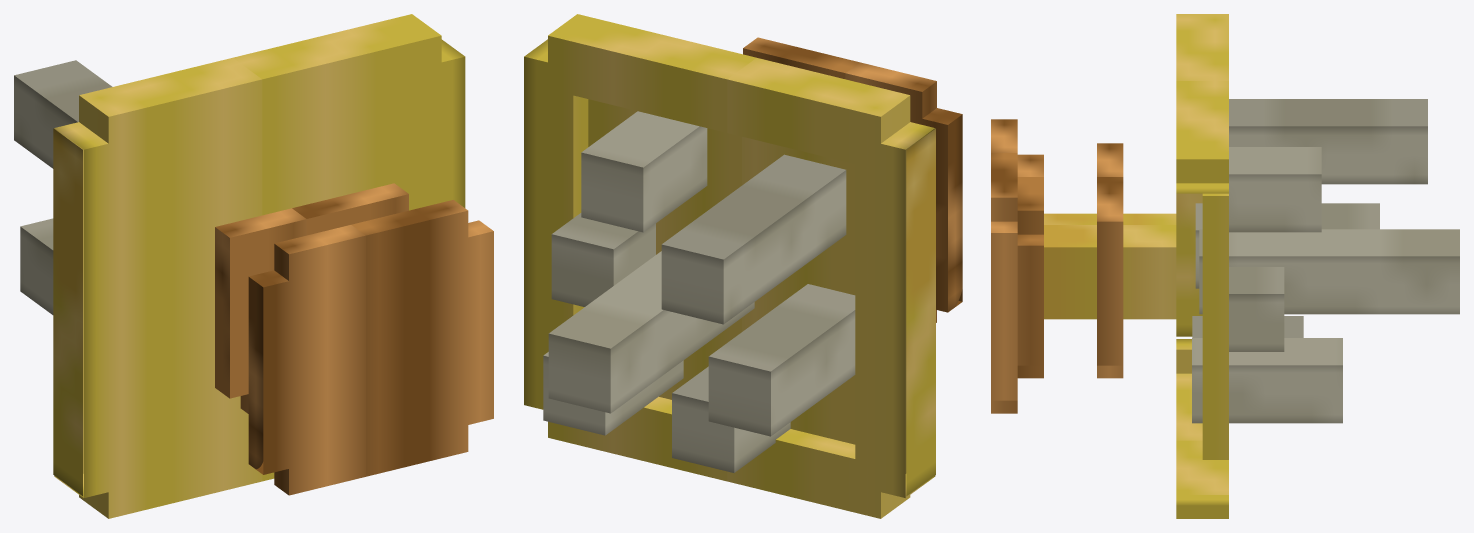
The model's file is Candle.fbx.
3 views of the same model, side by side, from view 1: azimuth 30°, elevation 25°; view 2: azimuth 150°, elevation 25°; view 3: azimuth 270°, elevation 25° (orthographic). The views are drawn at different scales.
Parts seen in each view (by area): view 1: Cube.028; view 2: Cube.028; view 3: Cube.028.
Boxes of the visible parts, x1,y1,x2,y2 form: Cube.028: (14, 14, 493, 518); Cube.028: (524, 14, 962, 518); Cube.028: (991, 14, 1459, 518).
Bounding box in the file's own units: 110 × 110 × 130.
Materials: 1 (1 with a texture image).
